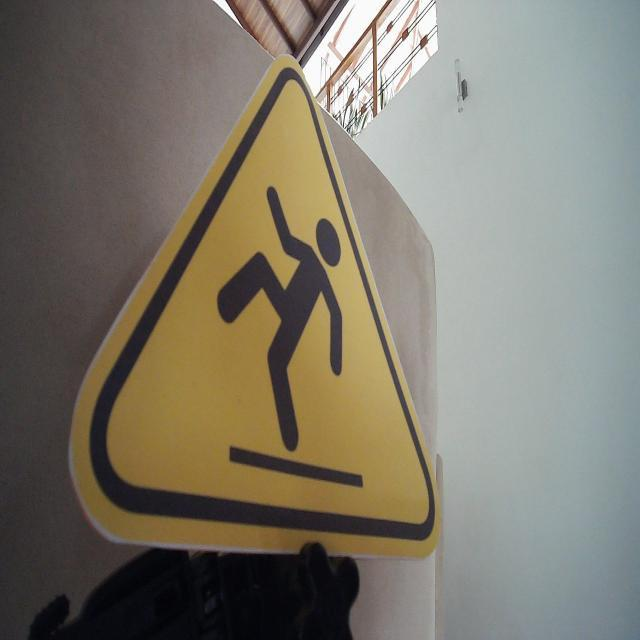slippery_sign: (66, 50, 443, 563)
